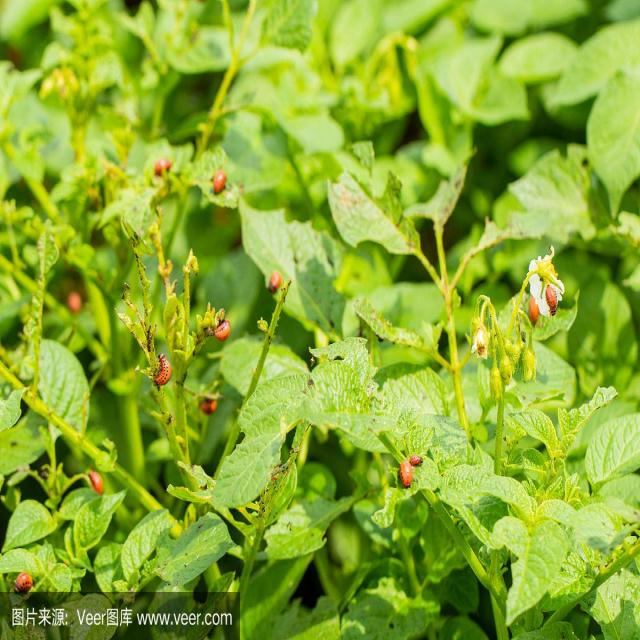ShuCaiHuaBanChong-Larva-: (147, 338, 186, 399), (204, 312, 238, 342), (535, 281, 561, 318), (398, 461, 416, 492), (406, 444, 422, 466)
